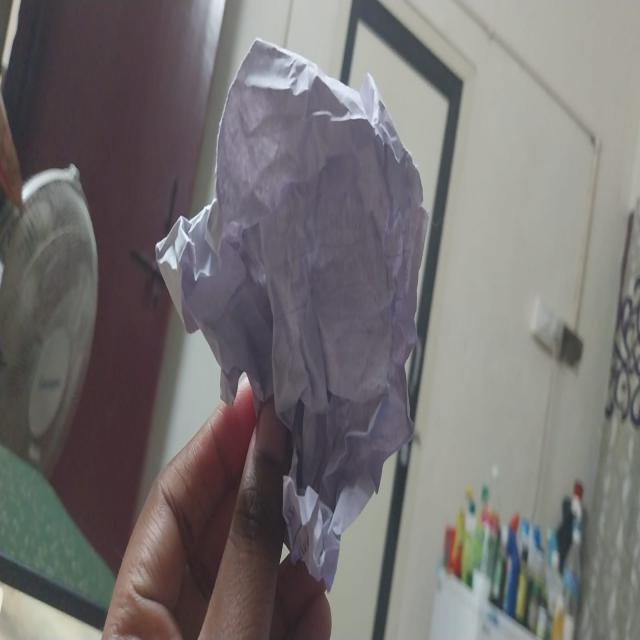Paper - Recyclable: (153, 35, 430, 593)
